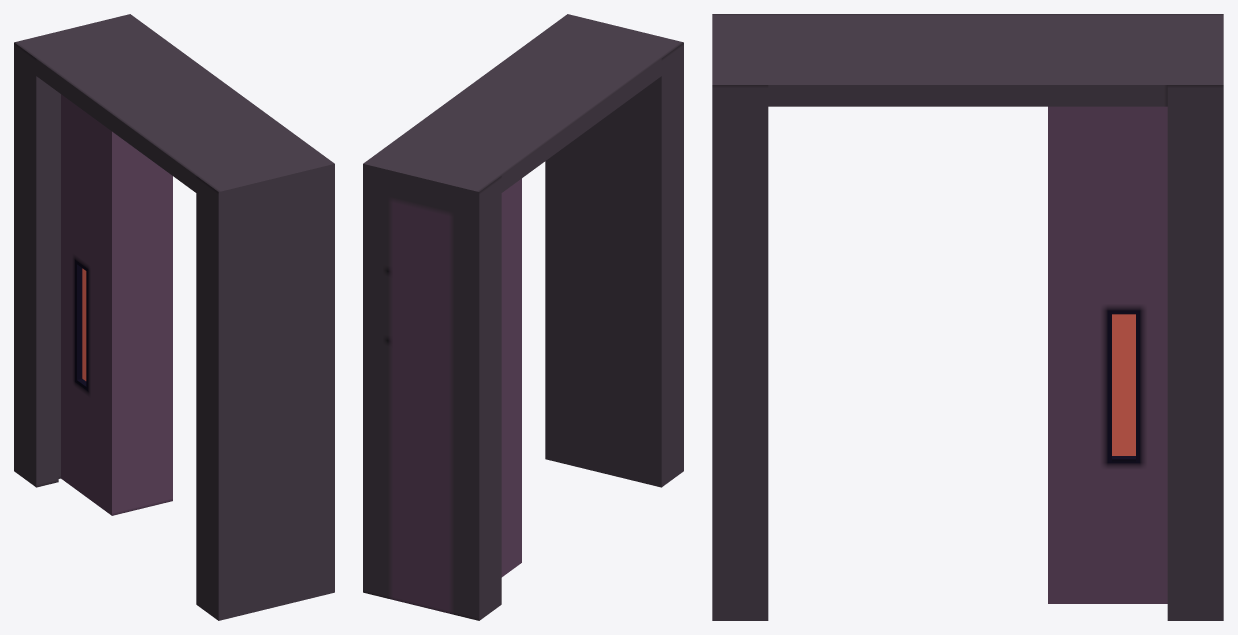
Rendered from dzwi_zaj_otwarte.dae.
3 views of the same model, side by side, from view 1: azimuth 30°, elevation 25°; view 2: azimuth 150°, elevation 25°; view 3: azimuth 270°, elevation 25° (orthographic). The views are drawn at different scales.
Visible parts, largest first — view 1: Content; view 2: Content; view 3: Content.
Boxes of the visible parts, left/top/right/bottom form: Content: left=14, top=14, right=334, bottom=620; Content: left=363, top=14, right=683, bottom=620; Content: left=712, top=14, right=1223, bottom=620.
Bounding box in the file's own units: 21 × 74 × 64.
Materials: 1 (1 with a texture image).
